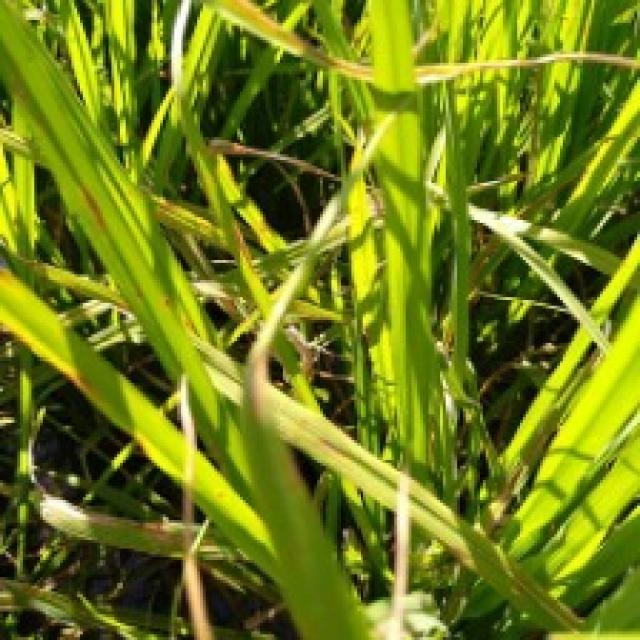Rice___Rice_Blast: (1, 0, 419, 637)
